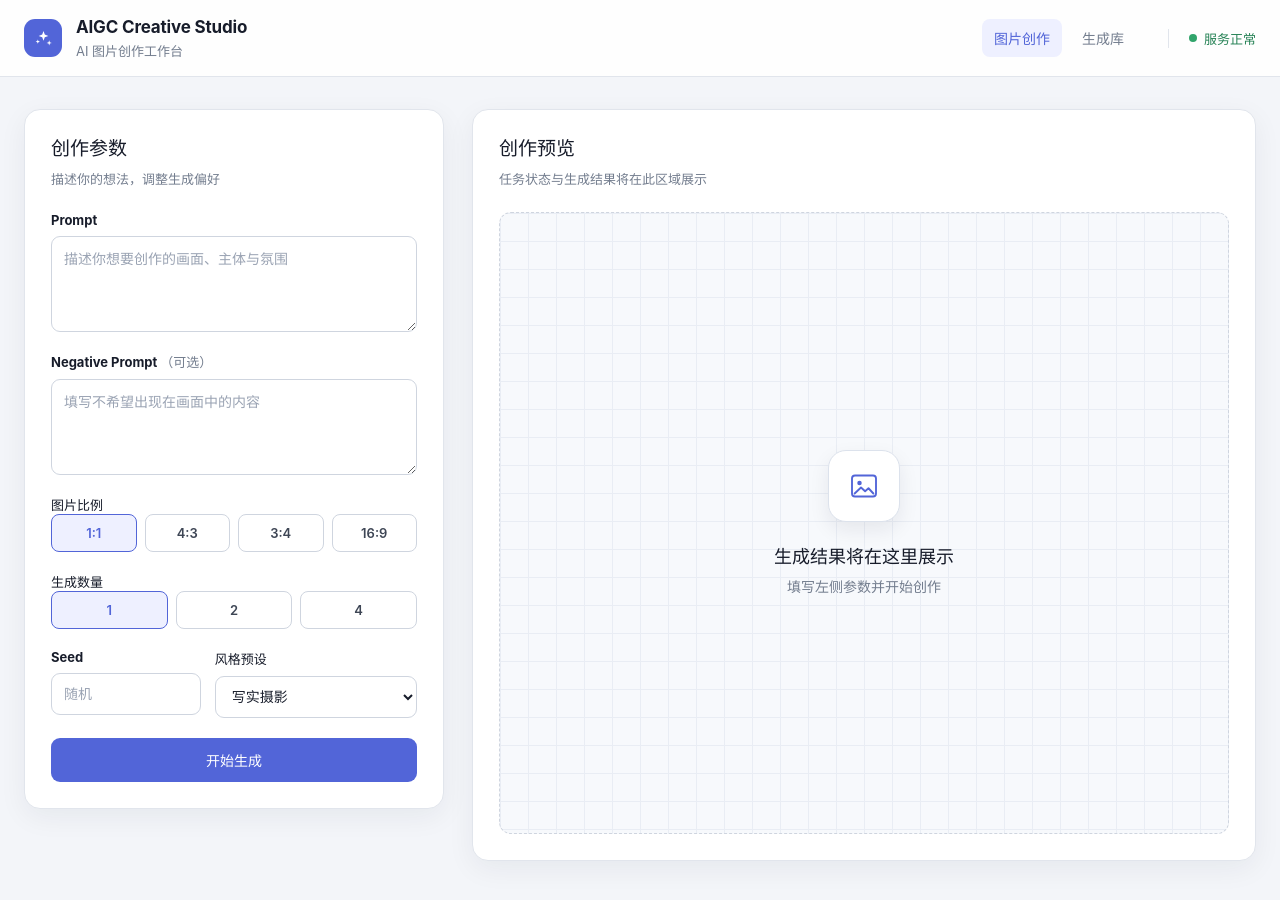
Test: CreatePage generation failures › shows the existing fallback message when no backend failure detail is provided
The width and height of the screenshot is (1280, 900).
Type "测试生成失败" into the text box labelled "Prompt" at (234,284), box [51,236,417,332]
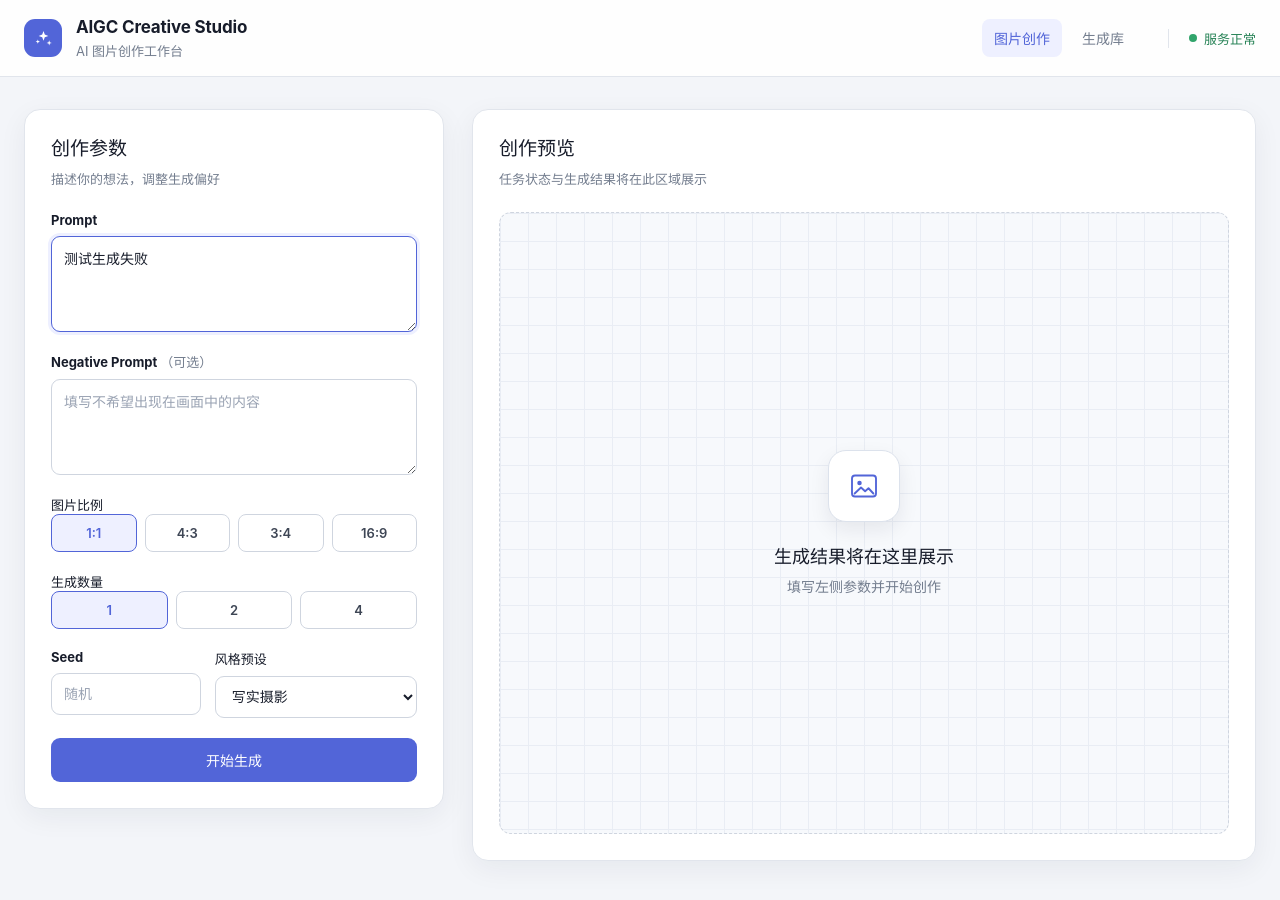
Click the button "开始生成" at (234,760), box [51,738,417,782]
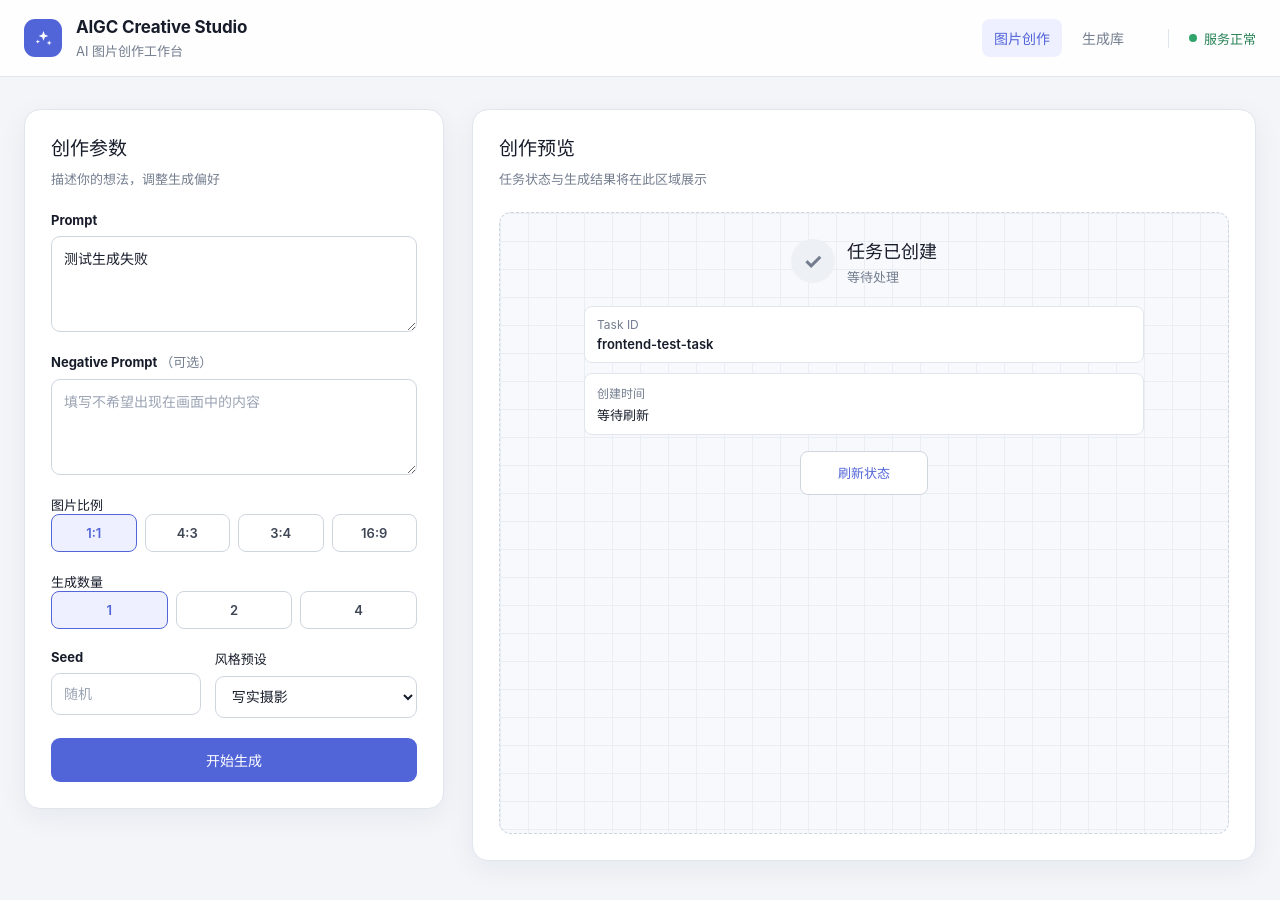
Click the button "刷新状态" at (864,473), box [800,451,928,495]
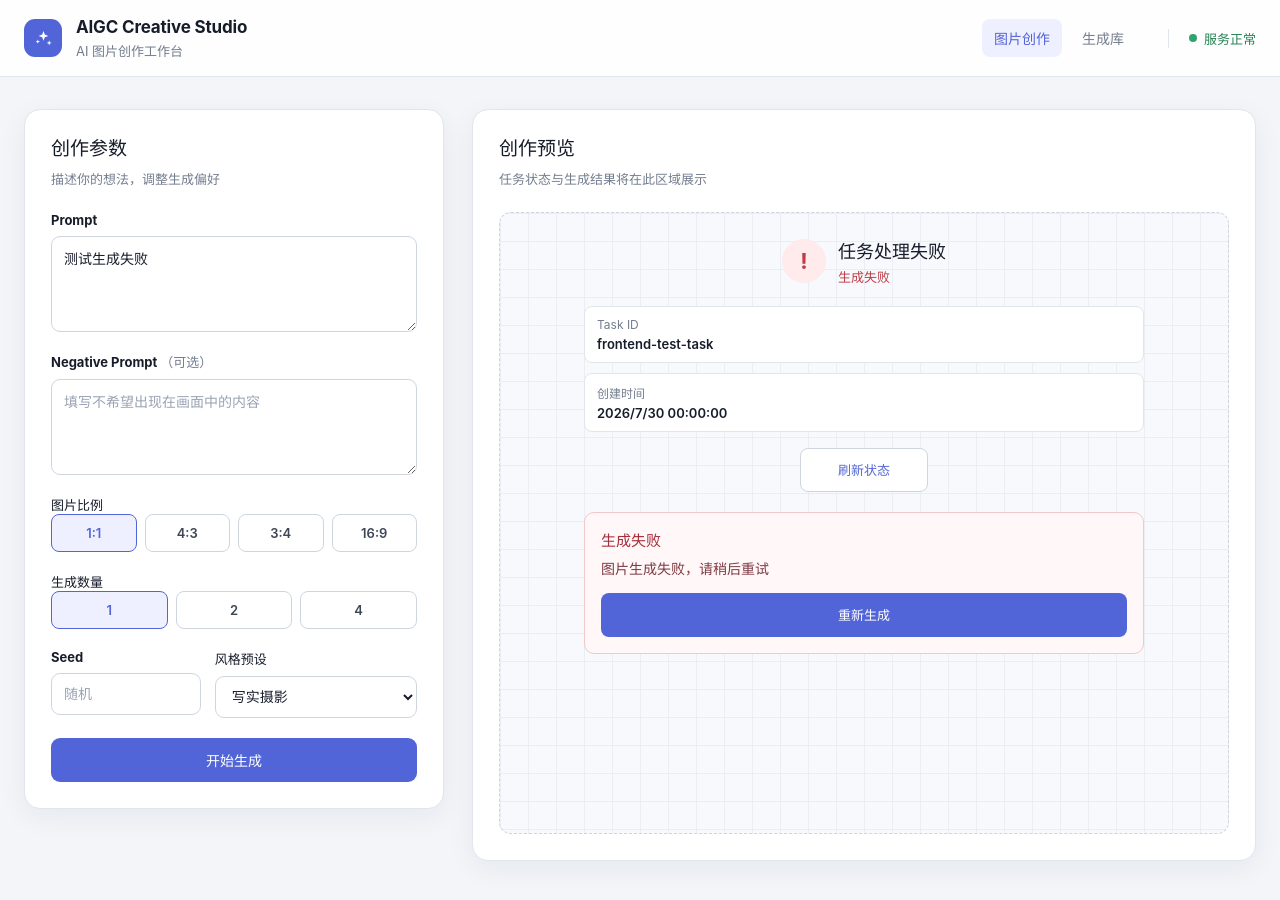
Expected: the heading "生成失败" is shown, [601,531,661,550]
Expected: the text "图片生成失败，请稍后重试" is shown, [601,560,769,577]
